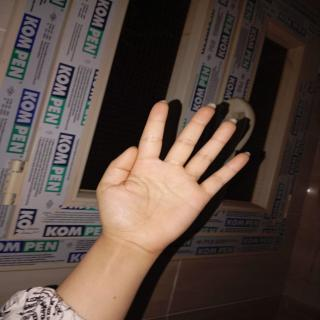SHEEN: (88, 95, 260, 258)
